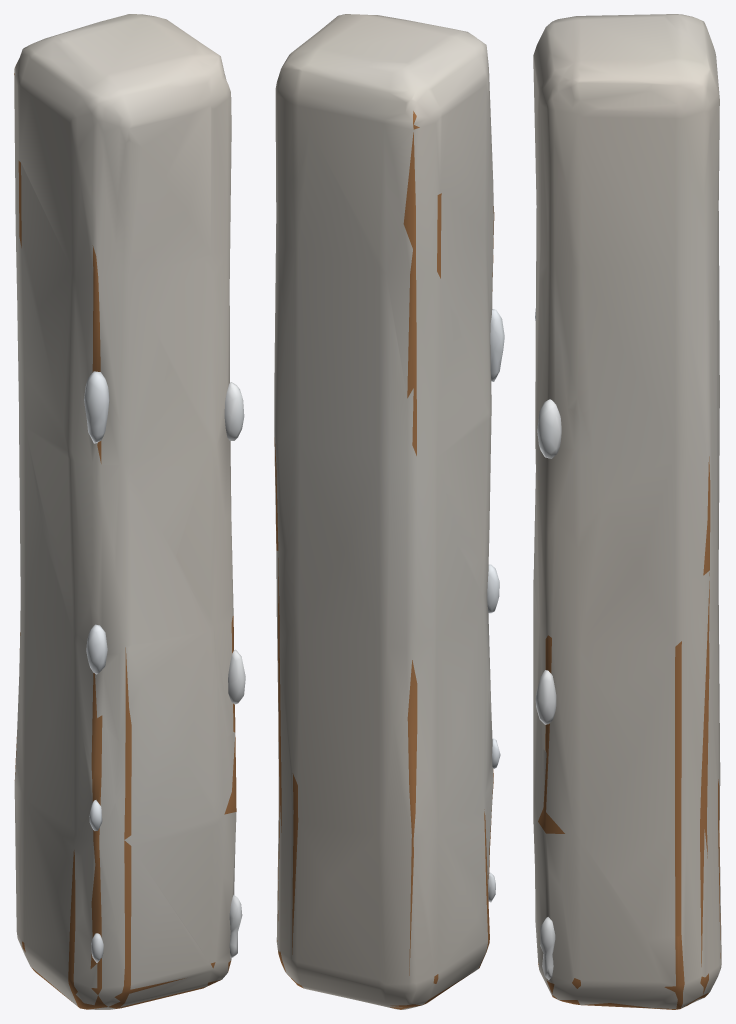
The model's file is frost_frame_post.glb.
3 renders of one model, left to right at view 1: azimuth 30°, elevation 25°; view 2: azimuth 150°, elevation 25°; view 3: azimuth 270°, elevation 25°, orthographic.
Parts seen in each view (by area): view 1: frost_frame_post; view 2: frost_frame_post; view 3: frost_frame_post.
Part boxes in pixels (x1,y1,x2,y2): frost_frame_post: (14,14,245,1009); frost_frame_post: (274,14,504,1009); frost_frame_post: (533,14,721,1009).
Size of the model in its own units: 3.64 by 20.07 by 3.61.
